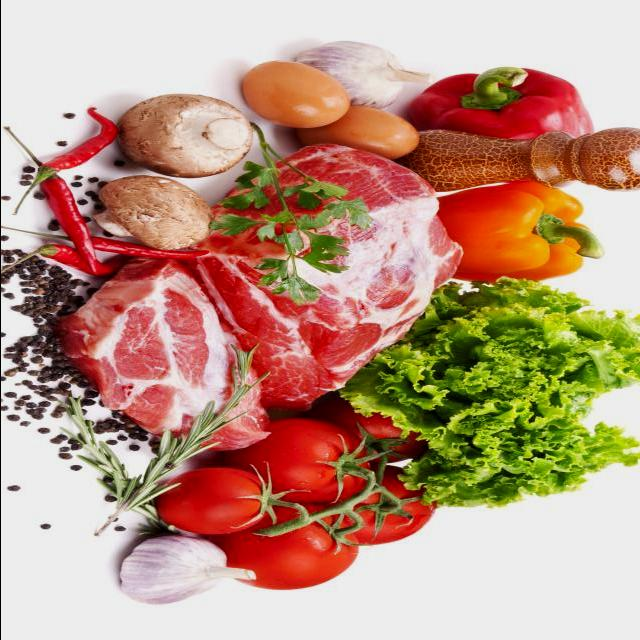bell_pepper: (421, 187, 607, 287), (416, 69, 594, 139)
egg: (245, 62, 354, 128), (298, 109, 426, 157)
garlic: (116, 539, 248, 610), (287, 44, 421, 113)
tomato: (216, 513, 369, 591), (242, 426, 378, 500), (311, 483, 444, 545), (157, 468, 281, 528)
